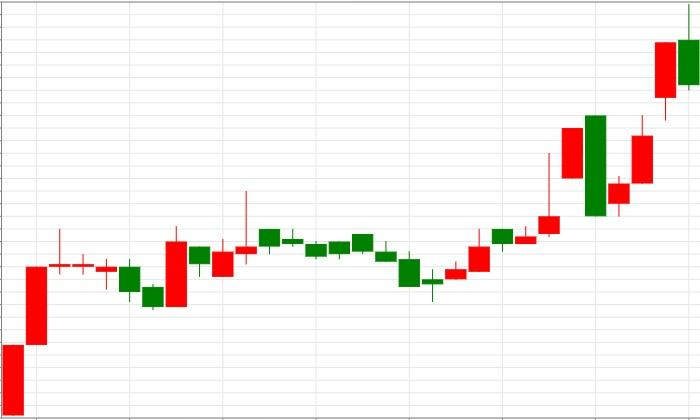bearish_engulfing_fall: (422, 114, 606, 302)
bullish_engulfing_rise: (49, 226, 188, 311)
